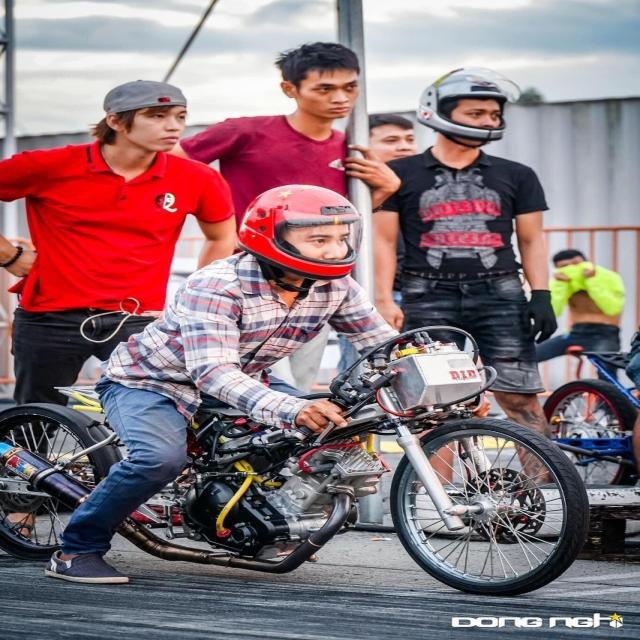Helmet: (234, 182, 367, 286), (408, 61, 528, 150)
Nonhelmet: (260, 34, 368, 124), (90, 72, 196, 158)
